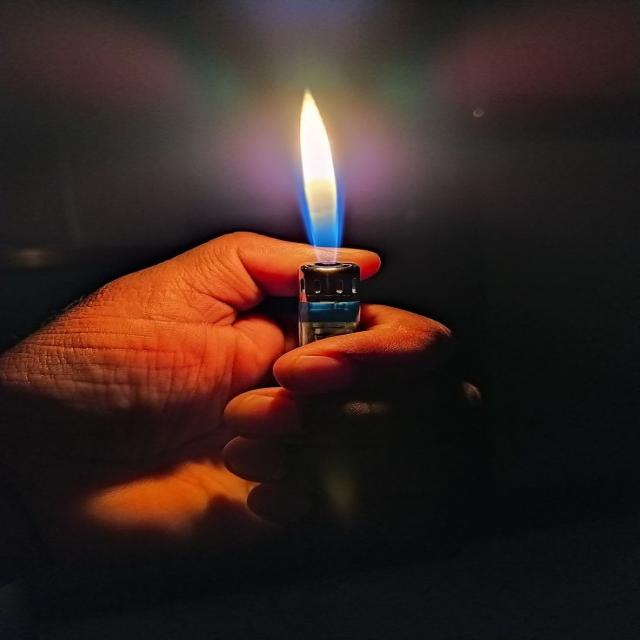fire: (298, 87, 341, 265)
